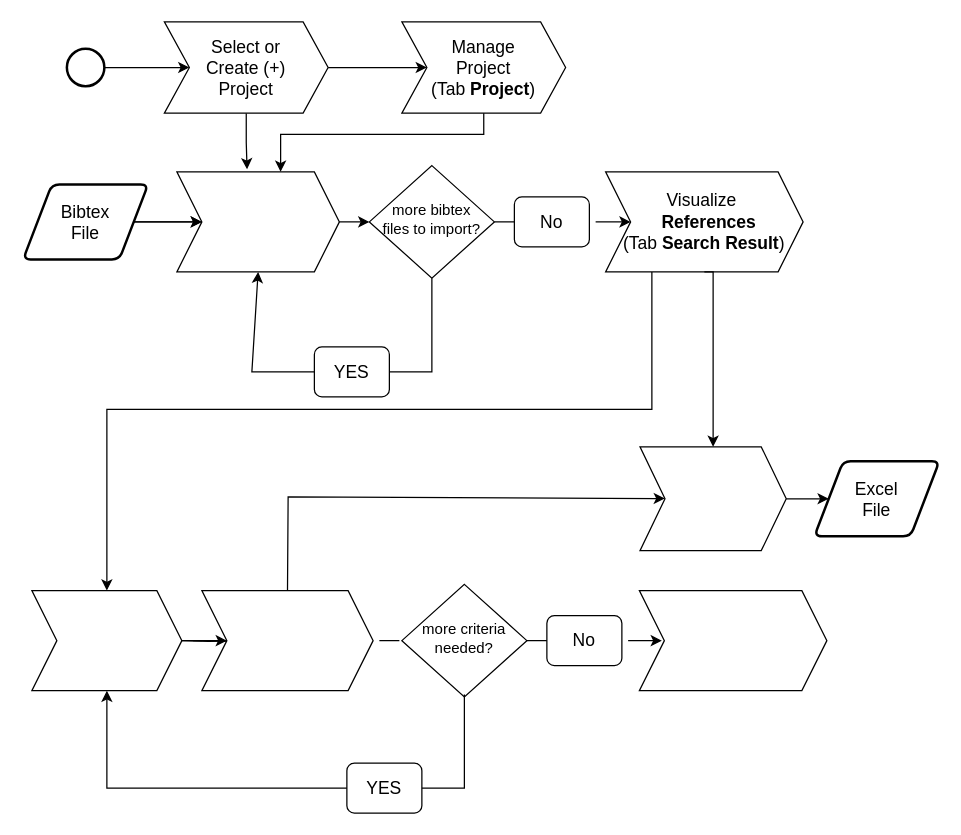
Some shapes in this 961 by 835 pixel diagram are drawn without their labels. Here are the shapes that lost their labels. From the top down, the centre of each, then its label:
point 257,221: Import or Add References (Tab Import )
point 712,498: Export Excel File
point 106,640: Define Selection Criteria (Tab IC/EC )
point 287,640: Select relevant References (Tab Screening )
point 732,640: Data Extraction (DO NOT IMPLEMENTED YET)
